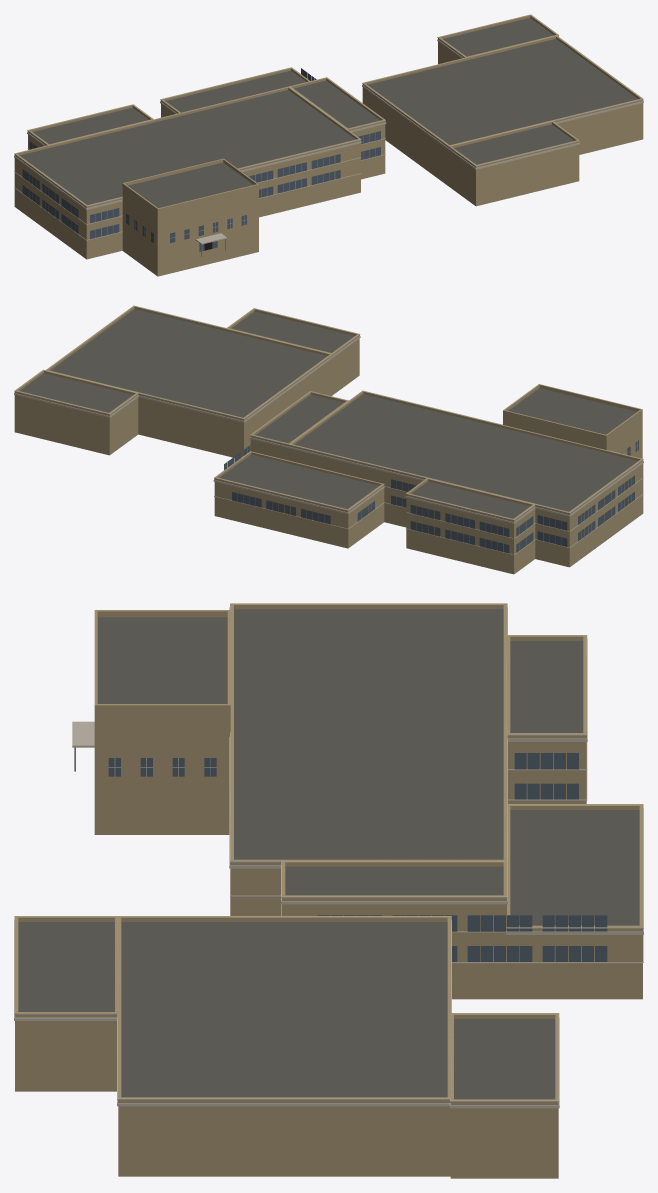
File: nlr-middle-school.glb
3 views of the same model, one above another, from view 1: azimuth 30°, elevation 25°; view 2: azimuth 150°, elevation 25°; view 3: azimuth 270°, elevation 25° (orthographic). The views are drawn at different scales.
Parts seen in each view (by area): view 1: nlr_middle_school; view 2: nlr_middle_school; view 3: nlr_middle_school.
Boxes of the visible parts, x1,y1,x2,y2 form: nlr_middle_school: (14, 14, 643, 276); nlr_middle_school: (14, 305, 643, 574); nlr_middle_school: (14, 603, 643, 1178).
Size of the model in its own units: 126 by 15.3 by 67.24.
